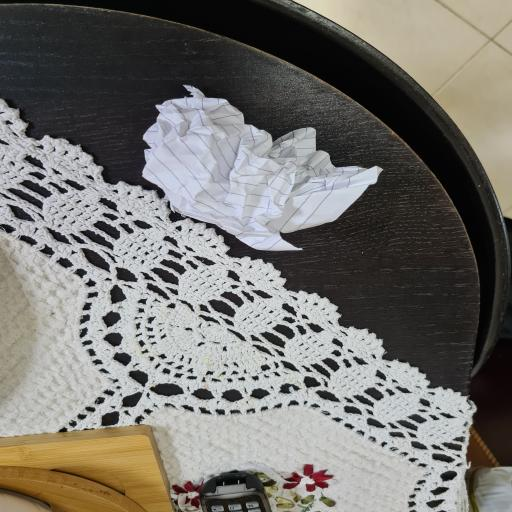Kertas: (138, 89, 390, 247)
